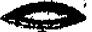Mouth: (1, 2, 88, 31)
